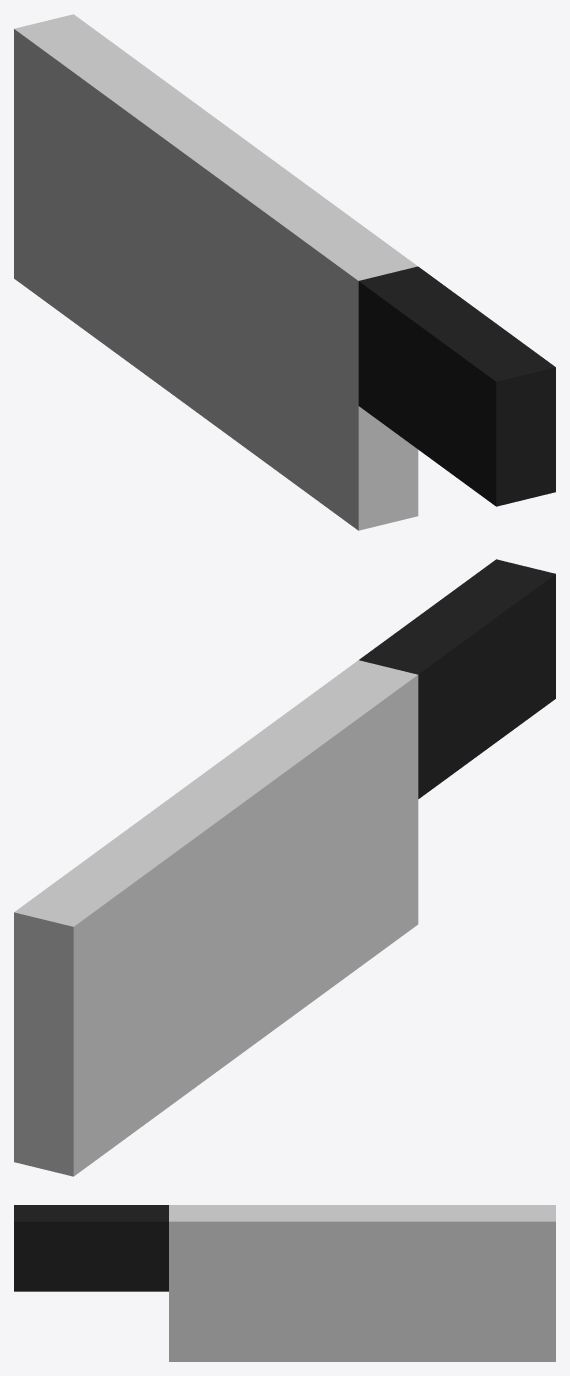
File: character.vox-4-player-knife.obj
3 renders of one model, top to bottom at view 1: azimuth 30°, elevation 25°; view 2: azimuth 150°, elevation 25°; view 3: azimuth 270°, elevation 25°, orthographic. The views are drawn at different scales.
Parts seen in each view (by area): view 1: player-knife; view 2: player-knife; view 3: player-knife.
Part boxes in pixels (x1,y1,x2,y2): player-knife: [14, 14, 555, 530]; player-knife: [14, 559, 555, 1176]; player-knife: [14, 1205, 555, 1361].
Size of the model in its own units: 0.1 by 0.4 by 1.4.
Materials: 1 (1 with a texture image).
